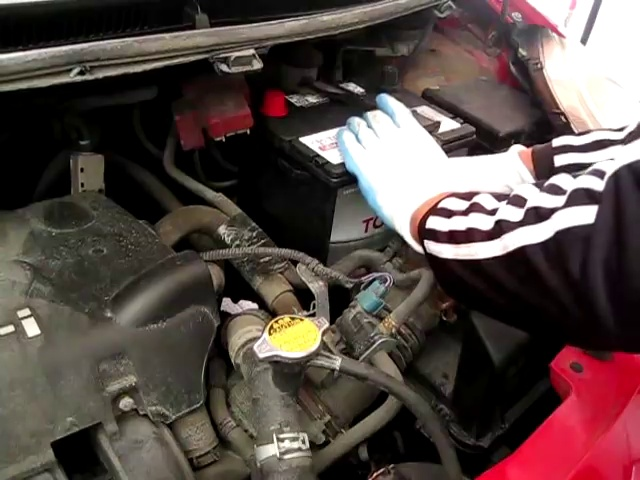battery: (248, 85, 476, 181)
pos_disconnected: (187, 80, 299, 152)
